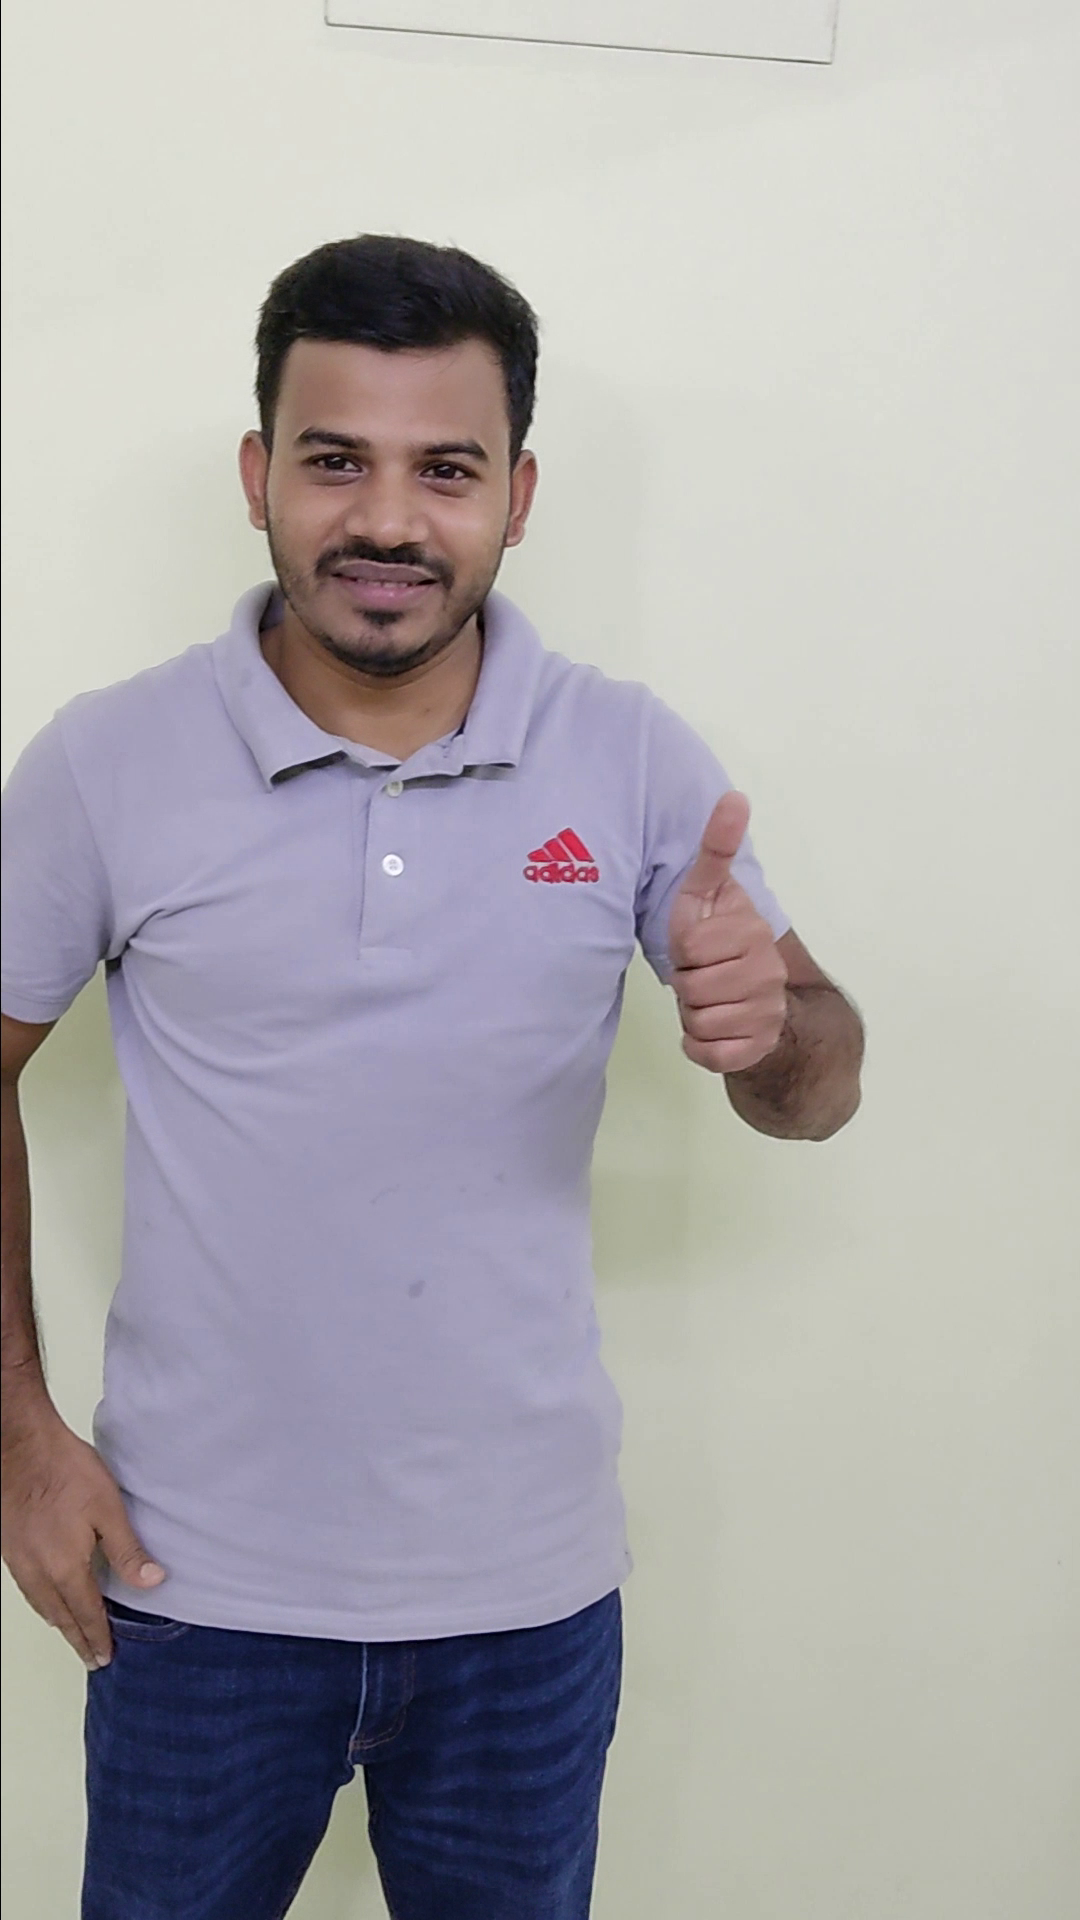Like: (632, 778, 804, 1087)
None: (3, 1395, 179, 1681)
